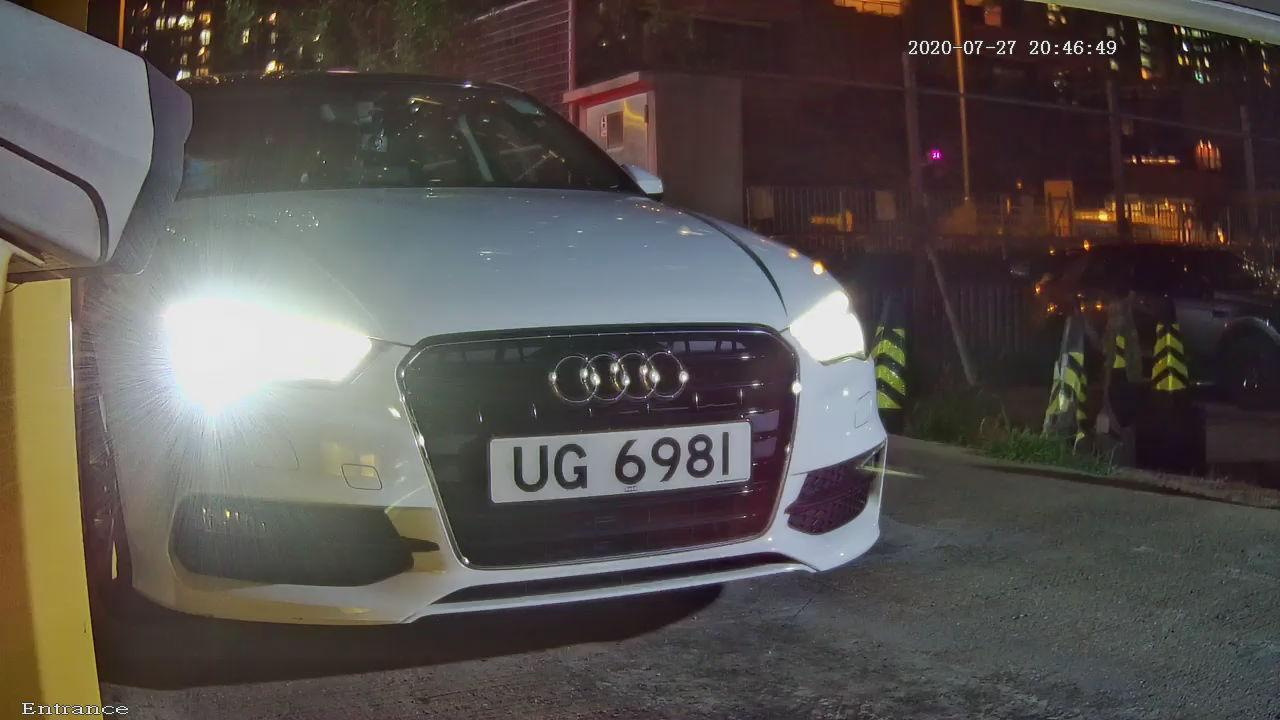privatecar: (81, 33, 915, 650)
